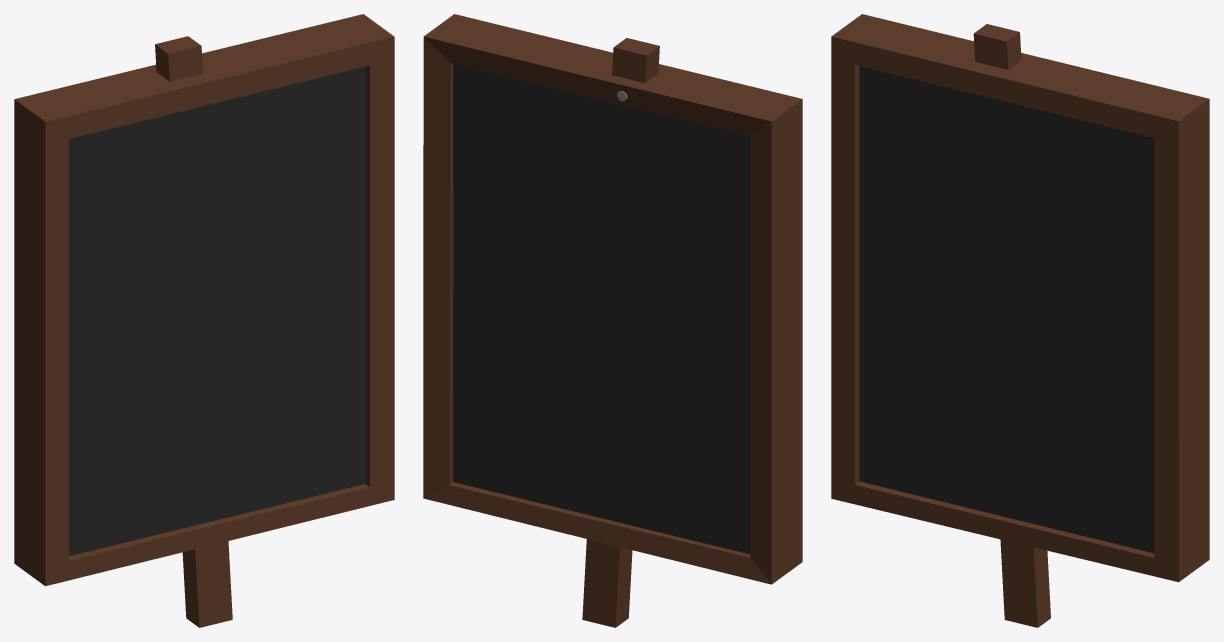
Rendered from panneau.glb.
The picture shows the model from 3 angles, left to right: view 1: azimuth 30°, elevation 25°; view 2: azimuth 150°, elevation 25°; view 3: azimuth 330°, elevation 25°; orthographic projection.
Parts seen in each view (by area): view 1: peaneau contour; view 2: peaneau contour; view 3: peaneau contour.
Part boxes in pixels (<box>): peaneau contour: <box>14,14,394,627</box>; peaneau contour: <box>423,14,802,627</box>; peaneau contour: <box>831,14,1209,627</box>.
Size of what is drawn, in the model's own units: 4.83 by 7.68 by 0.7411.
1 material, 1 textured.
